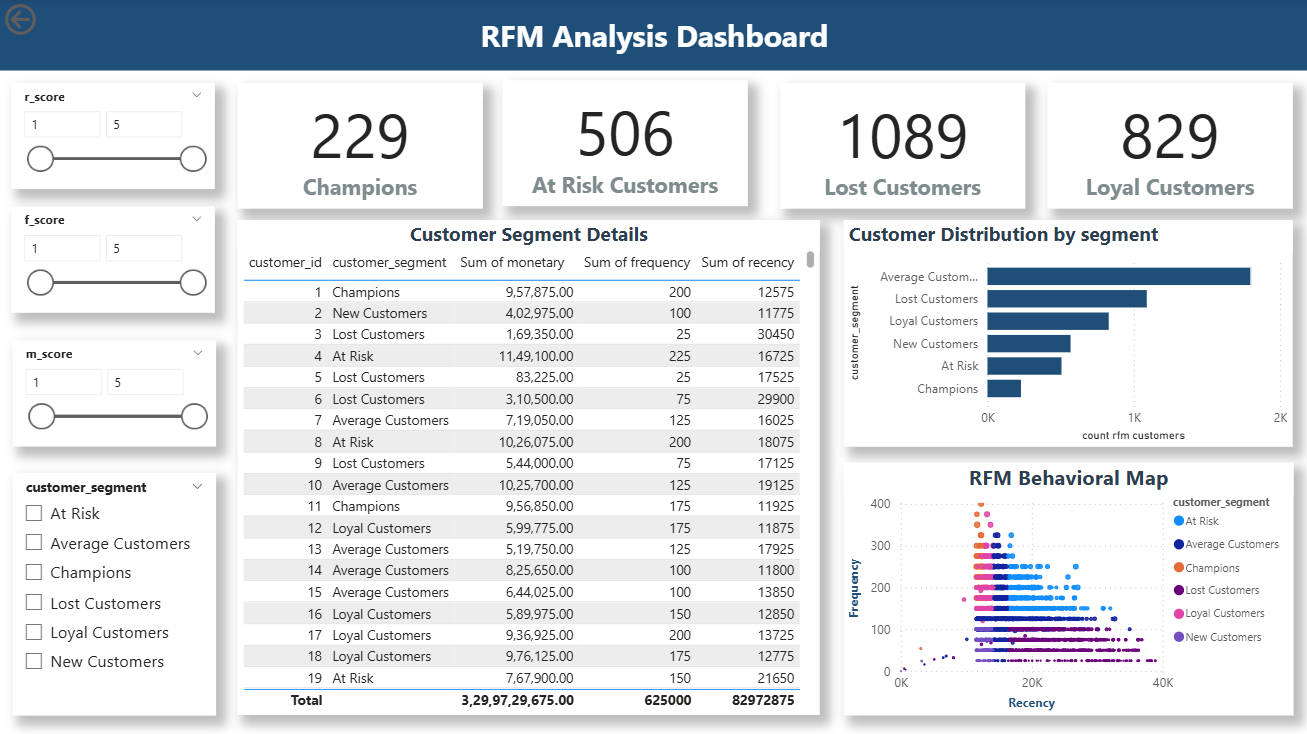

The dashboard page shown, as its layout file describes it:
{"tool":"powerbi","page":{"name":"rfm analysis","canvas":[1280,720],"ordinal":1},"visuals":[{"type":"shape","box":[0,0,1280.3,70],"z":0},{"type":"slicer","title":"RFM Segment Distribution","fields":{"Values":["public rfm_segmentation.r_score"]},"box":[11,82.3,199,104.3],"z":1000},{"type":"slicer","title":"RFM Segment Distribution","fields":{"Values":["public rfm_segmentation.m_score"]},"box":[12.3,333.4,199,104.3],"z":2000},{"type":"slicer","title":"RFM Segment Distribution","fields":{"Values":["public rfm_segmentation.f_score"]},"box":[11,203.1,199,104.3],"z":3000},{"type":"slicer","title":"RFM Segment Distribution","fields":{"Values":["public rfm_segmentation.customer_segment"]},"box":[12.3,463.8,199,237.4],"z":4000},{"type":"card","fields":{"Values":["public rfm_segmentation.Champions"]},"box":[231.9,82.3,240.1,123.5],"z":5000},{"type":"card","fields":{"Values":["public rfm_segmentation.Lost Customers"]},"box":[763,82.3,240.1,123.5],"z":6000},{"type":"card","fields":{"Values":["public rfm_segmentation.At Risk Customers"]},"box":[491.3,79.6,240.1,123.5],"z":7000},{"type":"card","fields":{"Values":["public association_rules.Champion Revenue"]},"box":[1025,82.3,240.1,123.5],"z":8000},{"type":"clusteredBarChart","title":"Customer Distribution by segment","fields":{"Y":["public rfm_segmentation.count rfm customers"],"Category":["public rfm_segmentation.customer_segment"]},"box":[825.4,216.4,439,221.3],"z":9000},{"type":"actionButton","box":[0,0,100,40],"z":10000},{"type":"scatterChart","title":"RFM Behavioral Map","fields":{"X":["Sum(public rfm_segmentationss.recency)"],"Y":["Sum(public rfm_segmentationss.frequency)"],"Size":["Sum(public rfm_segmentationss.monetary)"],"Series":["public rfm_segmentationss.customer_segment"],"Category":["public rfm_segmentationss.customer_id"]},"box":[825.4,453.7,440.2,247],"z":11000},{"type":"tableEx","title":"Customer Segment Details","fields":{"Values":["public rfm_segmentationss.customer_id","public rfm_segmentationss.customer_segment","Sum(public rfm_segmentationss.monetary)","Sum(public rfm_segmentationss.frequency)","Sum(public rfm_segmentationss.recency)"]},"box":[232.3,216.4,569.8,484.2],"z":12000}]}

Visuals, with their boxes in screenshot pixels (x1, y1, x2, y2), scaled from the page's 1280x720 canvas onto the 1307x734 screenshot:
shape: (x1=0, y1=0, x2=1306, y2=71)
"RFM Segment Distribution" slicer: (x1=11, y1=84, x2=214, y2=190)
"RFM Segment Distribution" slicer: (x1=13, y1=340, x2=216, y2=446)
"RFM Segment Distribution" slicer: (x1=11, y1=207, x2=214, y2=313)
"RFM Segment Distribution" slicer: (x1=13, y1=473, x2=216, y2=715)
card - public rfm_segmentation.Champions: (x1=237, y1=84, x2=482, y2=210)
card - public rfm_segmentation.Lost Customers: (x1=779, y1=84, x2=1024, y2=210)
card - public rfm_segmentation.At Risk Customers: (x1=502, y1=81, x2=747, y2=207)
card - public association_rules.Champion Revenue: (x1=1047, y1=84, x2=1292, y2=210)
"Customer Distribution by segment" clusteredBarChart: (x1=843, y1=221, x2=1291, y2=446)
actionButton: (x1=0, y1=0, x2=102, y2=41)
"RFM Behavioral Map" scatterChart: (x1=843, y1=463, x2=1292, y2=714)
"Customer Segment Details" tableEx: (x1=237, y1=221, x2=819, y2=714)
